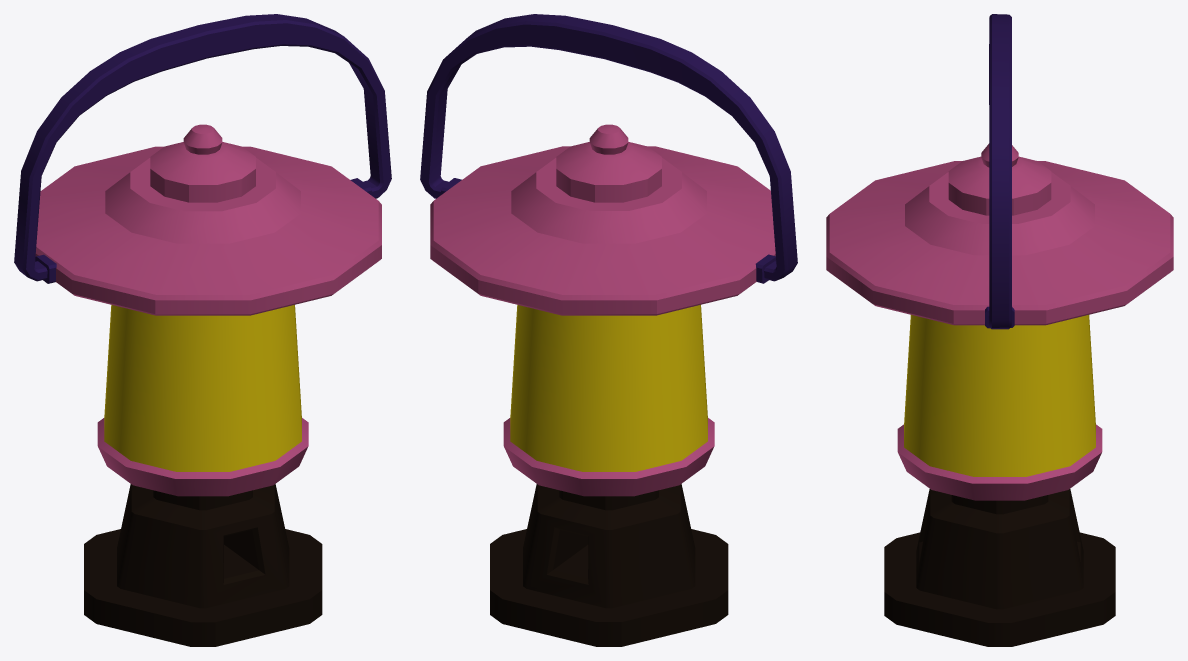
Rendered from Lamp.FBX.
The picture shows the model from 3 angles, left to right: view 1: azimuth 30°, elevation 25°; view 2: azimuth 150°, elevation 25°; view 3: azimuth 270°, elevation 25°; orthographic projection. The views are drawn at different scales.
Visible parts, largest first — view 1: Lamp; view 2: Lamp; view 3: Lamp.
Part boxes in pixels (<box>): Lamp: <box>14,14,391,646</box>; Lamp: <box>420,14,797,646</box>; Lamp: <box>826,14,1173,646</box>.
Bounding box in the file's own units: 706 × 592 × 1029.
